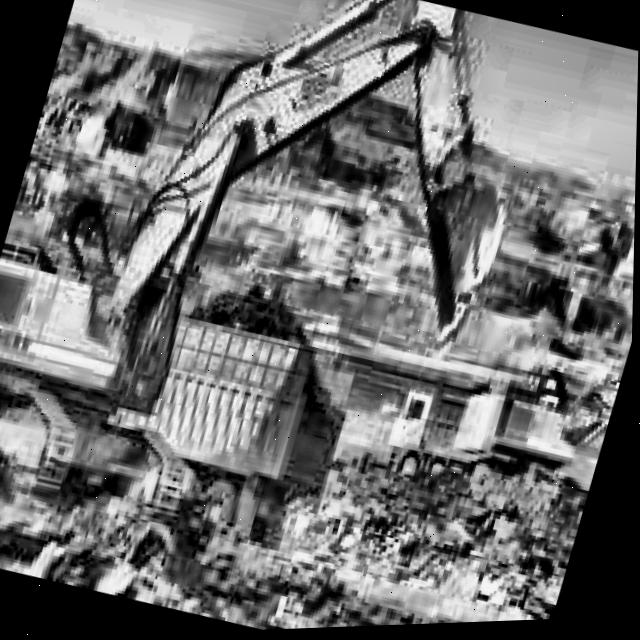dump_truck: (132, 362, 348, 544), (184, 275, 358, 406), (388, 377, 471, 475)
excavator: (0, 0, 574, 577), (430, 328, 628, 551)
